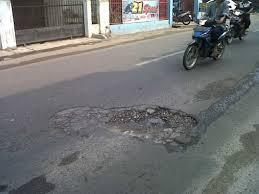Pothole: (66, 96, 211, 143)
